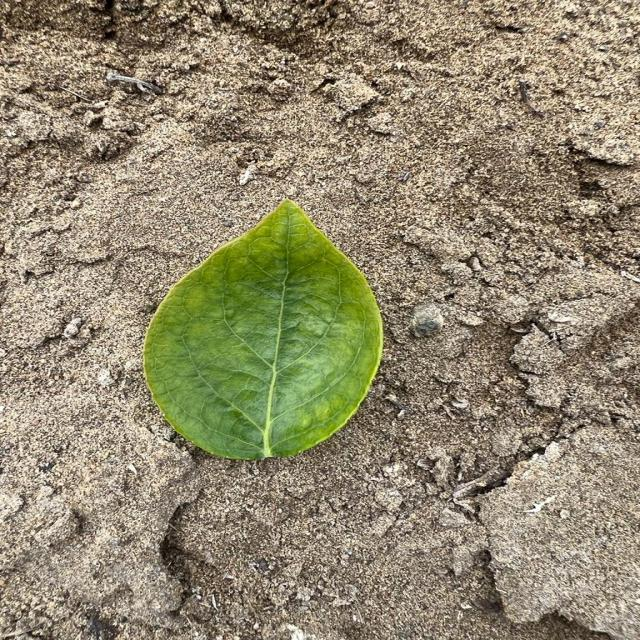Hojas sanas sin oidiosis: (139, 195, 383, 457)
